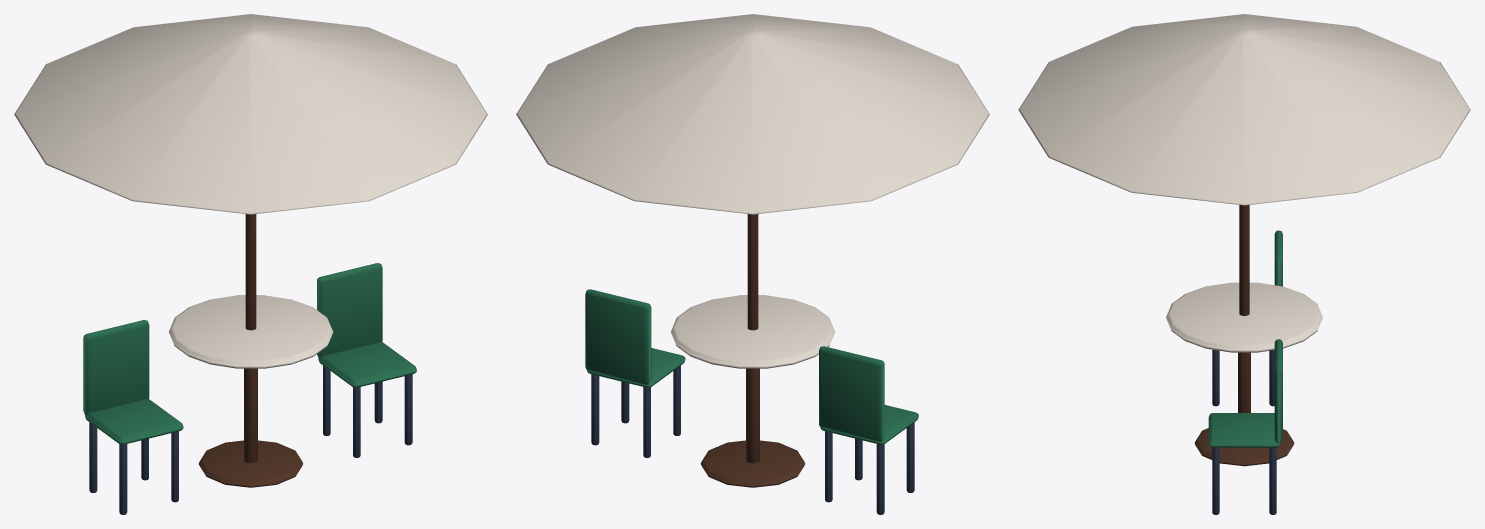
The model's file is prop_table.glb.
3 renders of one model, left to right at view 1: azimuth 30°, elevation 25°; view 2: azimuth 150°, elevation 25°; view 3: azimuth 270°, elevation 25°, orthographic. The views are drawn at different scales.
Visible parts, largest first — view 1: prop_table; view 2: prop_table; view 3: prop_table.
Part boxes in pixels (x1=…): prop_table: x1=14, y1=14, x2=487, y2=514; prop_table: x1=516, y1=14, x2=989, y2=514; prop_table: x1=1018, y1=14, x2=1470, y2=514.
Bounding box in the file's own units: 3.16 × 3.21 × 3.16.
